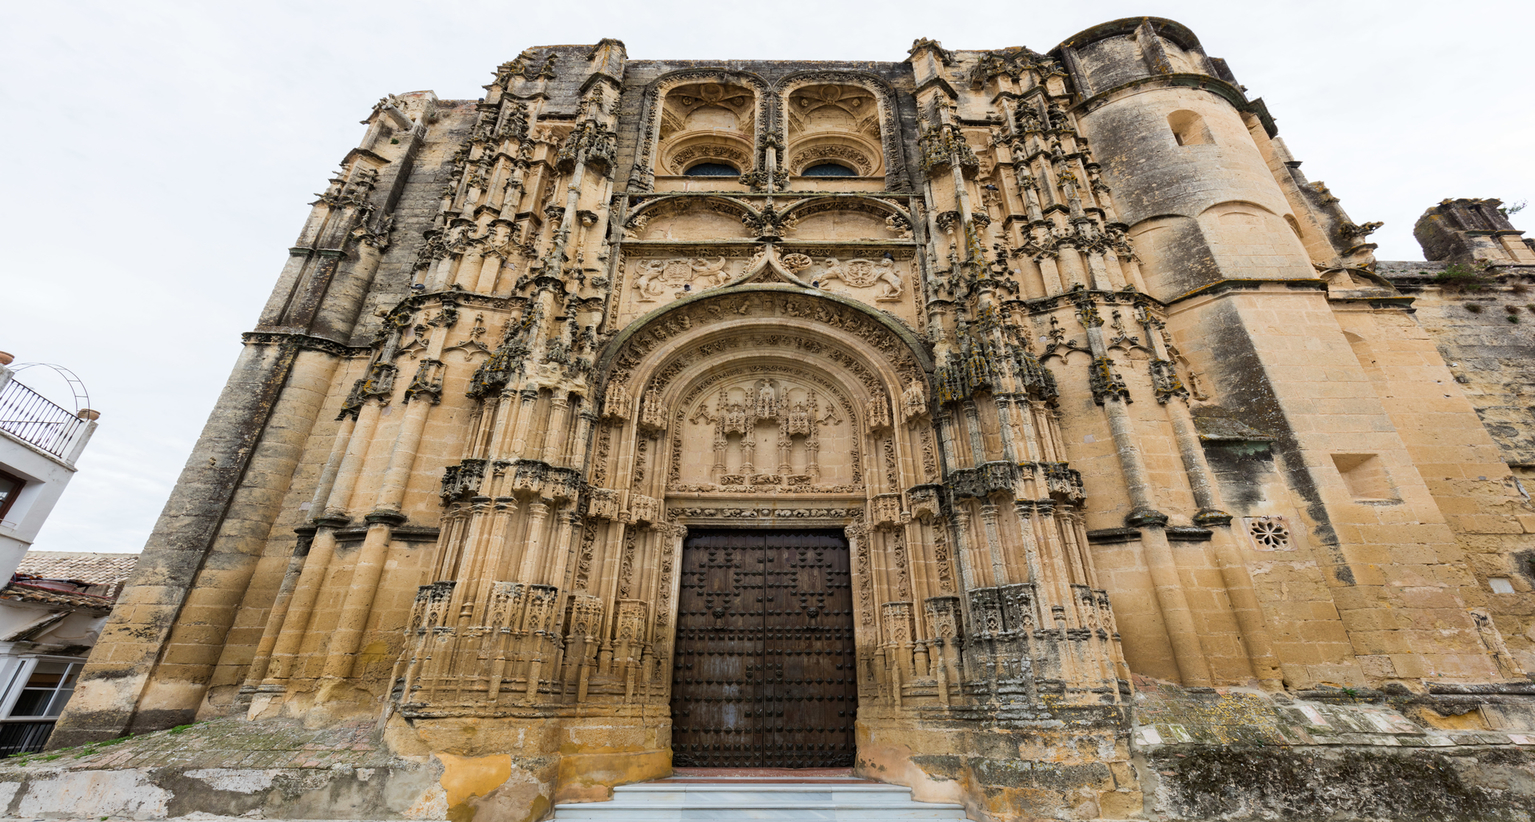arco-conopial: (633, 247, 900, 325)
